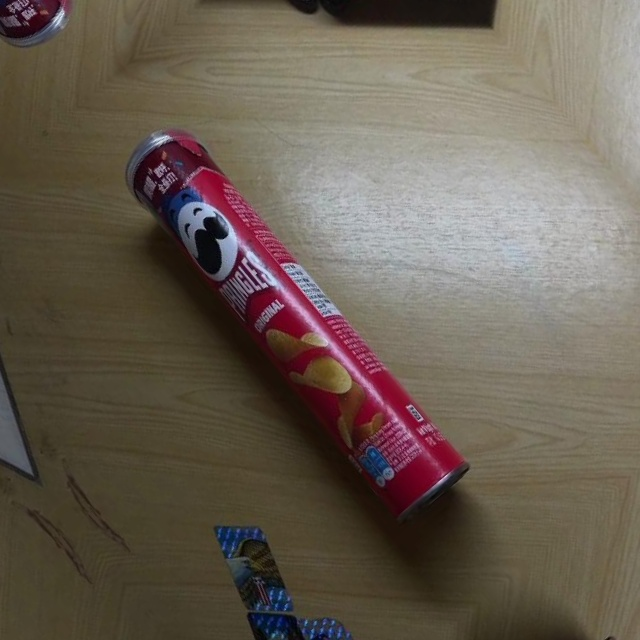Pringles: (111, 115, 475, 525)
